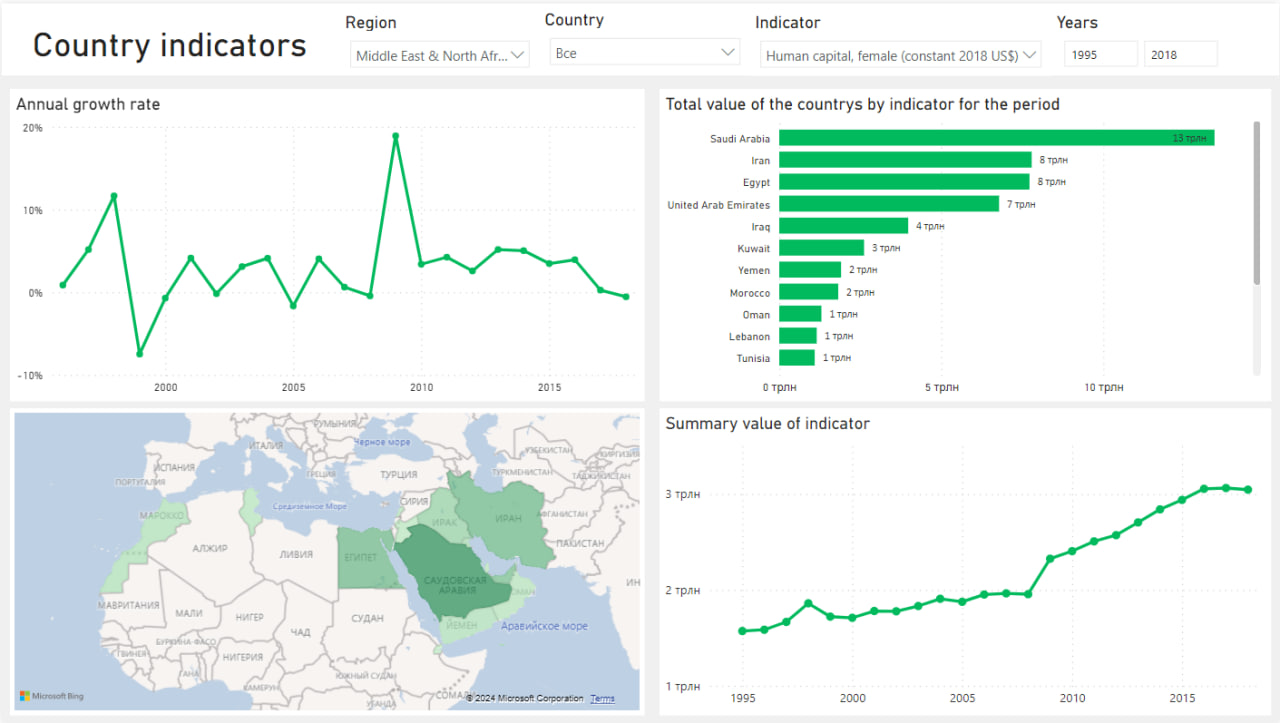

This screenshot's page, from the dashboard's own definition file:
{"tool":"powerbi","page":{"name":"Страница 1","canvas":[1280,720],"ordinal":0},"visuals":[{"type":"textbox","box":[0,0,1280,72.2],"z":0},{"type":"lineChart","title":"Summary value of indicator","fields":{"Category":["public data.year"],"Y":["Sum(public data.value)"]},"box":[659.1,405.5,612.7,308.2],"z":1000},{"type":"filledMap","fields":{"Category":["public country.long_name","public data.value"]},"box":[8.2,405.5,636.4,308.2],"z":2000},{"type":"slicer","title":"Region","fields":{"Values":["public country.region"]},"box":[338.9,7.8,200,62.2],"z":3000},{"type":"slicer","title":"Country","fields":{"Values":["public country.short_name"]},"box":[538.9,5.6,211.1,65.6],"z":4000},{"type":"slicer","title":"Indicator","fields":{"Values":["public series.indicator_name"]},"box":[750,7.8,302.2,64.4],"z":5000},{"type":"barChart","title":"         Total value of the countrys by indicator for the period","fields":{"Category":["public country.short_name"],"Y":["Sum(public data.value)"]},"box":[659.1,85.5,612.7,312.7],"z":6000},{"type":"slicer","title":"  Years","fields":{"Values":["public data.year"]},"box":[1052.2,7.8,173.3,63.3],"z":7000},{"type":"lineChart","title":"Annual growth rate","fields":{"Category":["public data.year"],"Y":["public data.Growth Rate"]},"box":[8.2,85.5,636.4,312.7],"z":8000}]}

Visuals, with their boxes in screenshot pixels (x1, y1, x2, y2), scaled from the page's 1280x720 canvas onto the 1280x723 screenshot:
textbox: 0/0/1279/73
"Summary value of indicator" lineChart: 659/407/1272/717
filledMap - public country.long_name x public data.value: 8/407/645/717
"Region" slicer: 339/8/539/70
"Country" slicer: 539/6/750/71
"Indicator" slicer: 750/8/1052/73
"         Total value of the countrys by indicator for the period" barChart: 659/86/1272/400
"  Years" slicer: 1052/8/1226/71
"Annual growth rate" lineChart: 8/86/645/400
